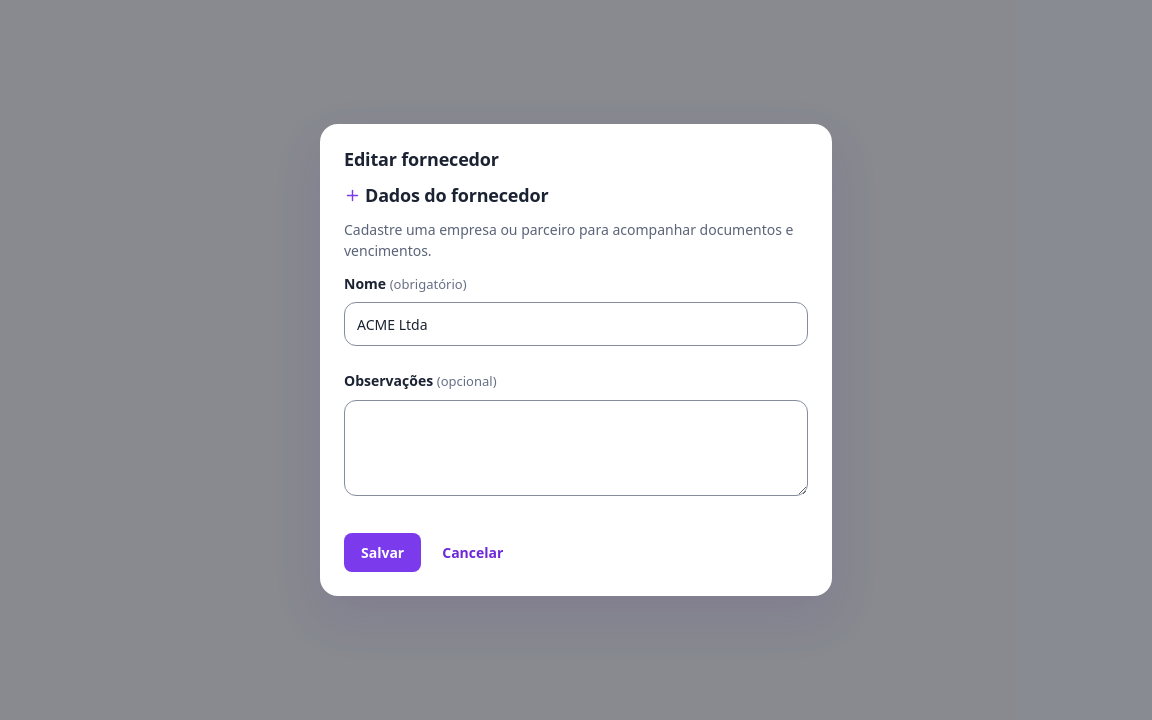
it: SubjectFormDialog › edit: an OCC conflict (409) shows the dedicated recovery notice, never a generic error
The width and height of the screenshot is (1152, 720).
Check: the field labelled "Nome (obrigatório)" holds "ACME Ltda", box [344,302,808,346]
Click the button "Salvar": (383, 552) [344,533,421,572]
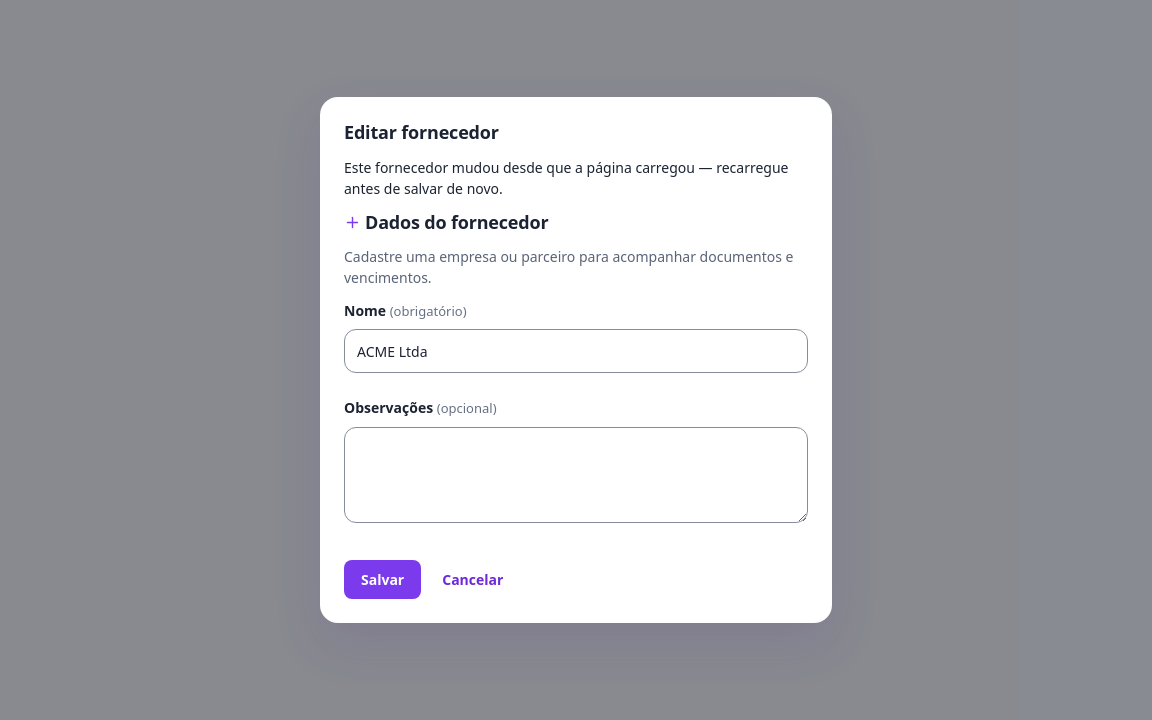
Check: the text "Este fornecedor mudou desde que a página carregou" is shown, box [344,158,788,198]
